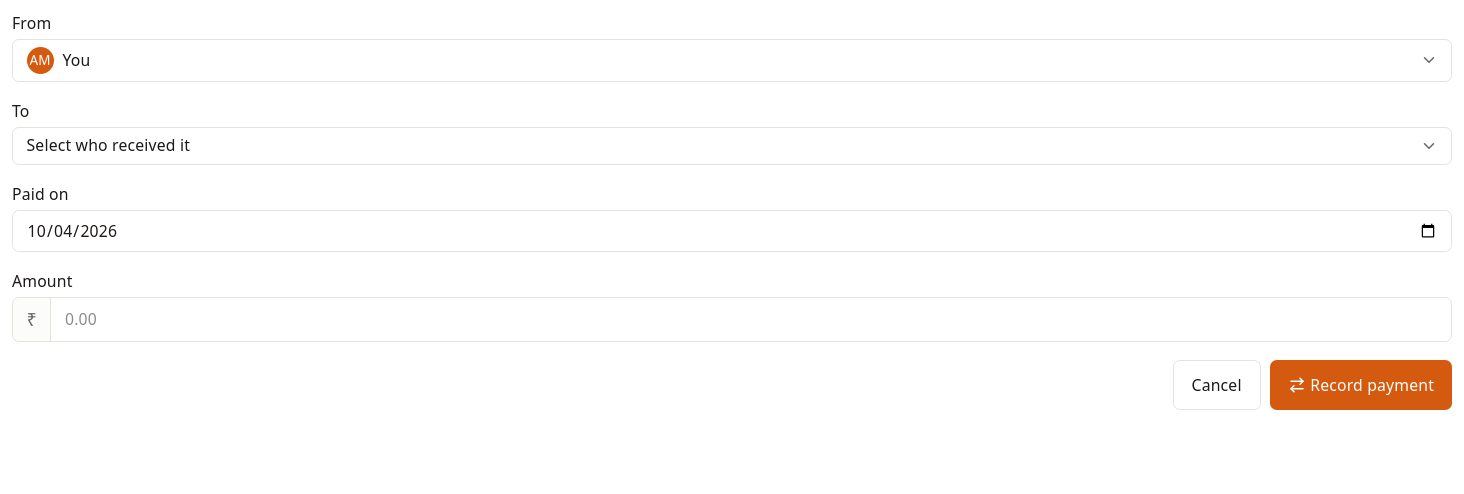
Test: RecordPaymentForm › rejects a manually entered future paid date
Type "2099-12-31" into the date field labelled "Paid on" at [732, 231], box [12,210,1452,252]
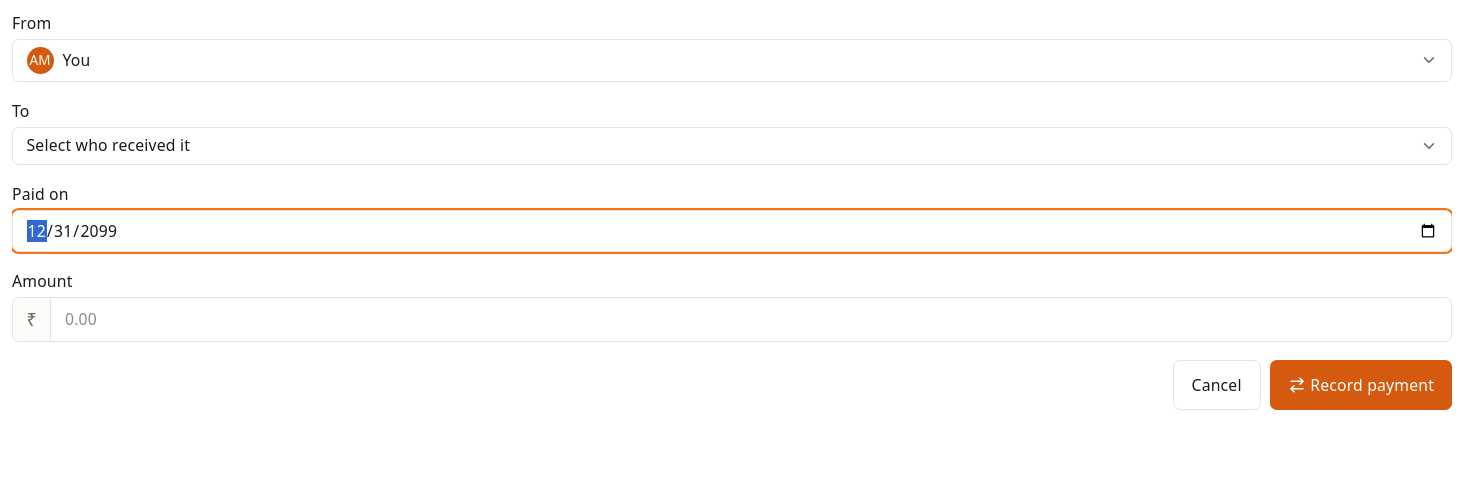
Click the button "Record payment" at [1361, 385], box [1270,360,1452,410]
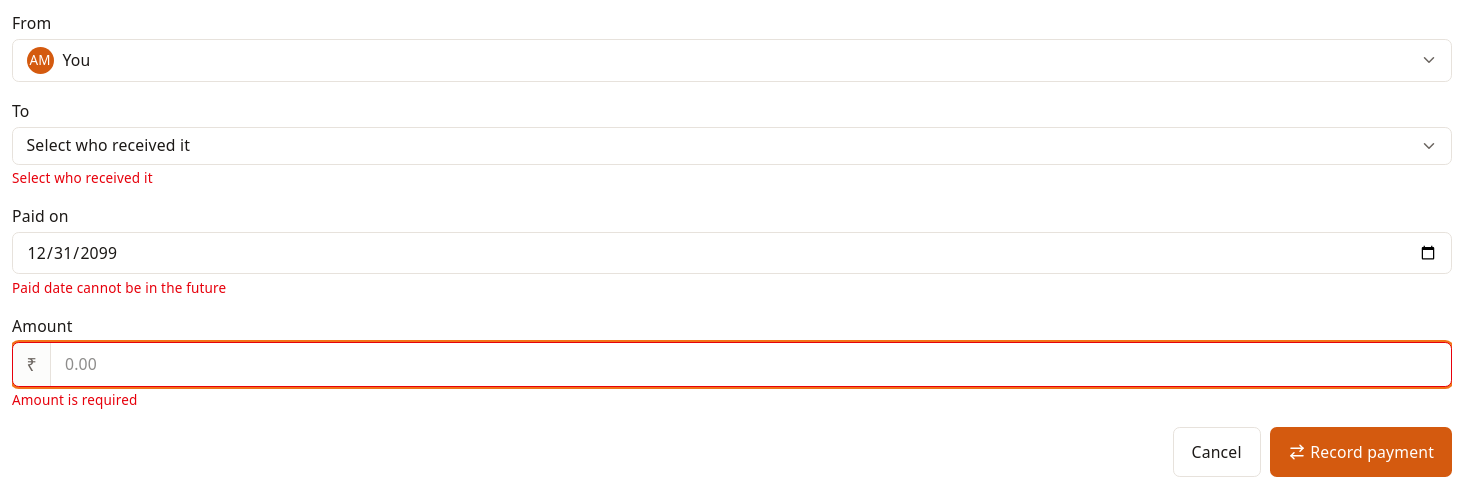
Result: the text "Paid date cannot be in the future" is shown at [12,279,226,297]
